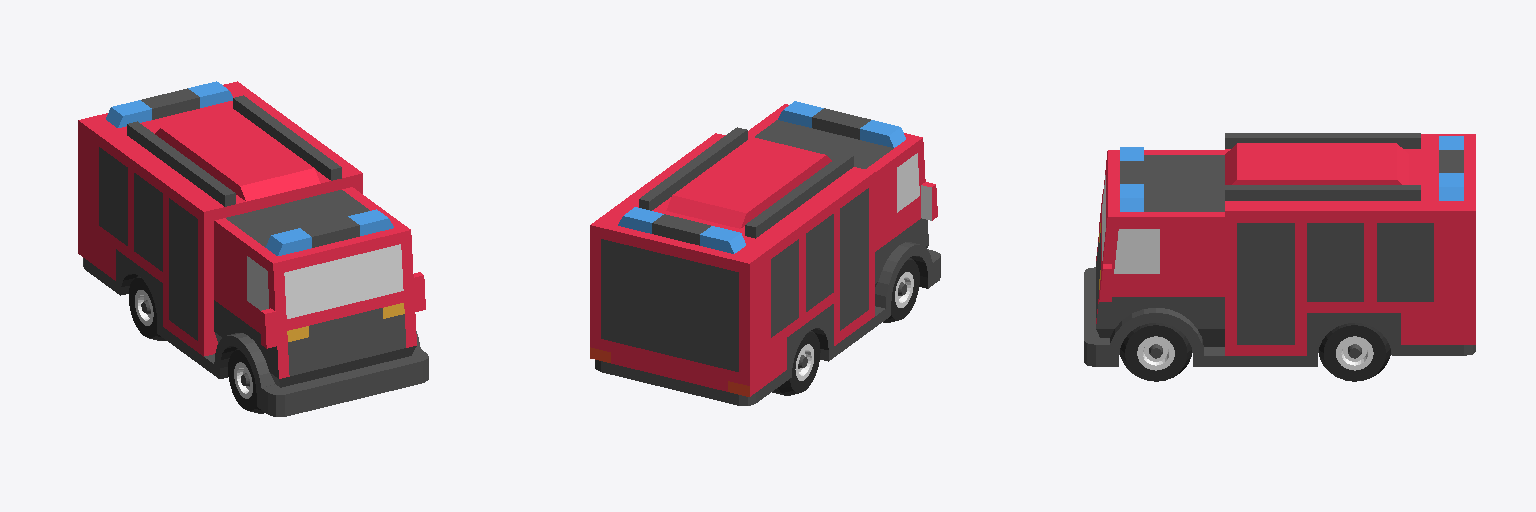
File: firetruck.obj
3 renders of one model, left to right at view 1: azimuth 30°, elevation 25°; view 2: azimuth 150°, elevation 25°; view 3: azimuth 270°, elevation 25°, orthographic.
Visible parts, largest first — view 1: body, wheel_frontRight, wheel_backRight; view 2: body, wheel_backRight, wheel_frontRight; view 3: body, wheel_backLeft, wheel_frontLeft.
Boxes of the visible parts, <box> form: body: <box>78,81,428,416</box>; wheel_frontRight: <box>228,348,264,413</box>; wheel_backRight: <box>129,276,165,340</box>; body: <box>590,101,940,405</box>; wheel_backRight: <box>772,331,820,395</box>; wheel_frontRight: <box>883,258,919,322</box>; body: <box>1084,133,1475,366</box>; wheel_backLeft: <box>1319,323,1390,381</box>; wheel_frontLeft: <box>1120,323,1191,381</box>.
Size of the model in its own units: 1.5 by 1.7 by 3.2.